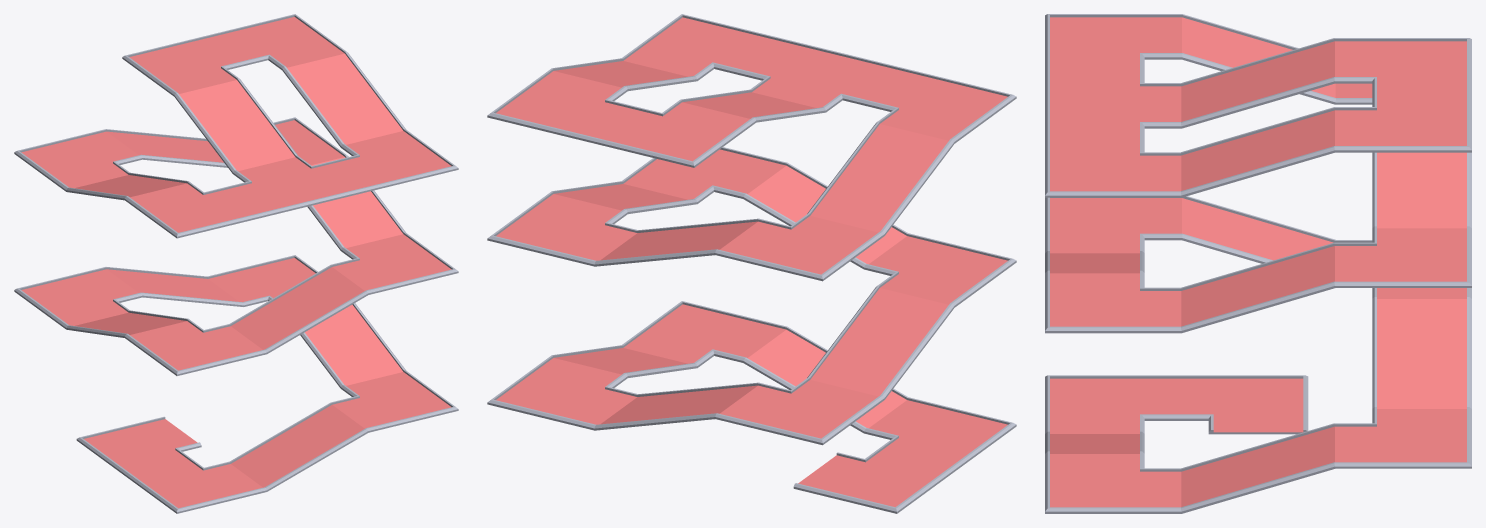
File: jilxt.glb
3 views of the same model, side by side, from view 1: azimuth 30°, elevation 25°; view 2: azimuth 150°, elevation 25°; view 3: azimuth 270°, elevation 25° (orthographic). The views are drawn at different scales.
Parts seen in each view (by area): view 1: mass; view 2: mass; view 3: mass.
Boxes of the visible parts, x1,y1,x2,y2 form: mass: (14, 14, 458, 513); mass: (487, 14, 1016, 513); mass: (1045, 14, 1471, 513).
Size of what is drawn, in the model's own units: 41.69 by 44.31 by 41.69.
